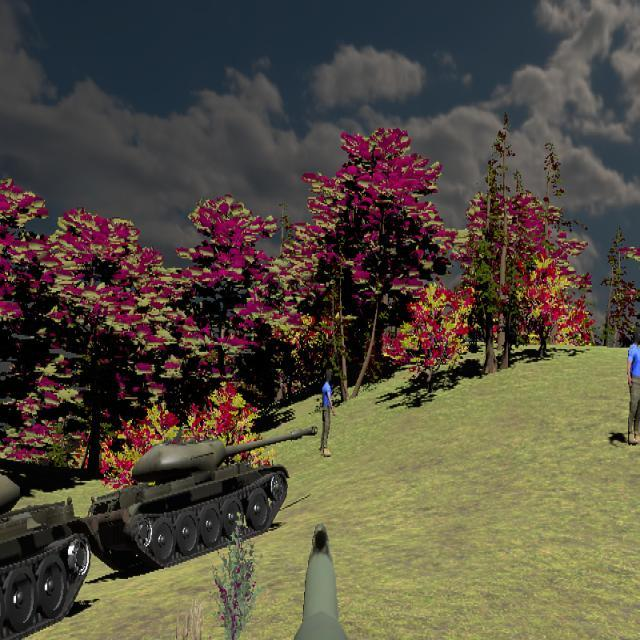Human: (626, 324, 640, 446), (320, 369, 336, 457)
Tank: (85, 423, 320, 575), (0, 455, 92, 640)
